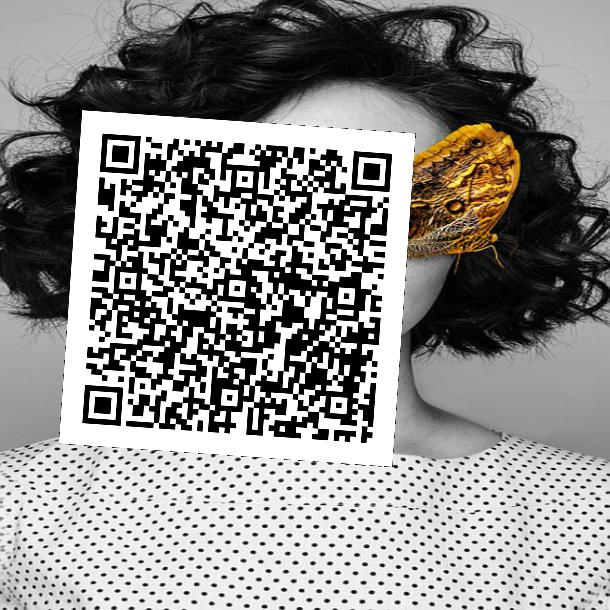qr_code: (59, 110, 415, 466)
